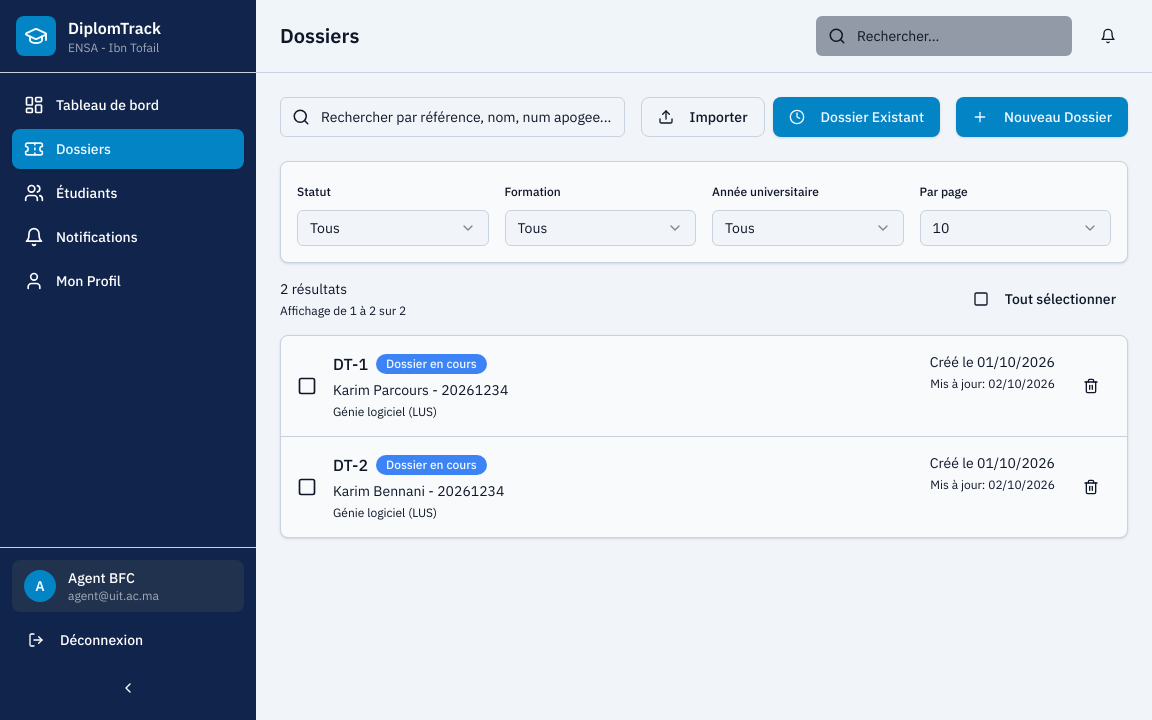
Scenario: AgentTickets search › finds dossiers by a nested student field
Expected: the text "DT-2" is shown, x1=333 y1=453 x2=368 y2=477
Type "benna" into the field with placeholder "Rechercher par référence, nom, num apogee..." at coordinates (452, 117), box x1=280 y1=97 x2=625 y2=137
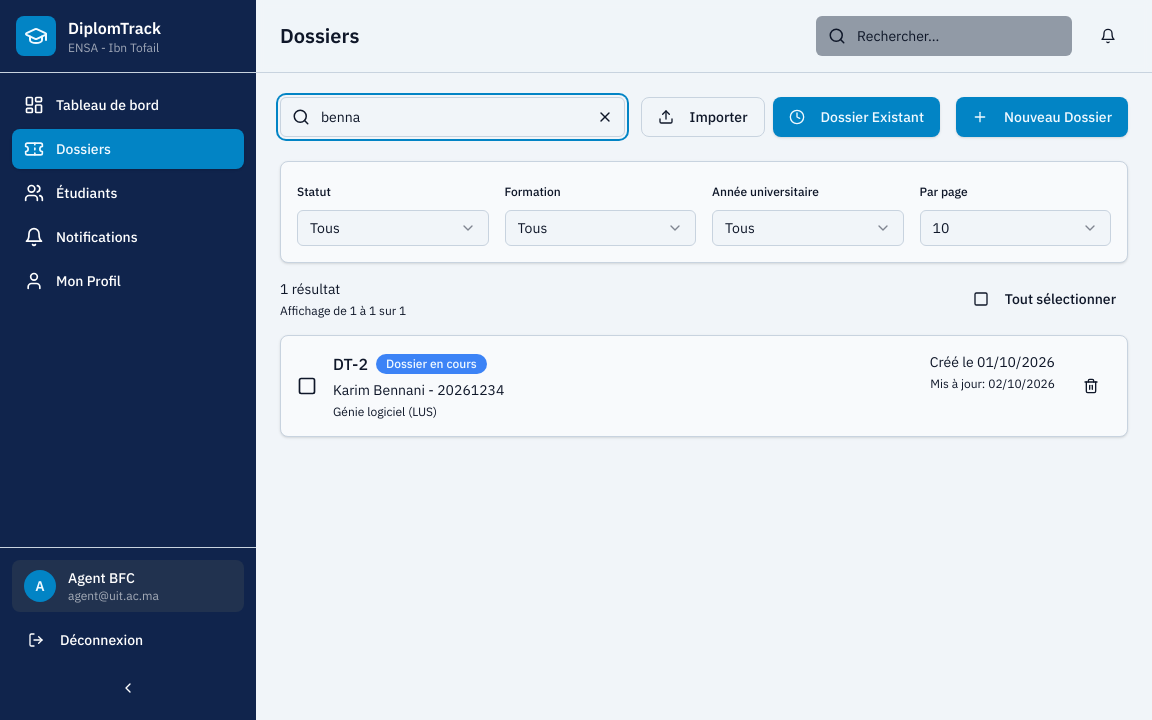
Expected: the text "DT-2" is shown, x1=333 y1=352 x2=368 y2=376
Expected: the text "DT-1" is gone
